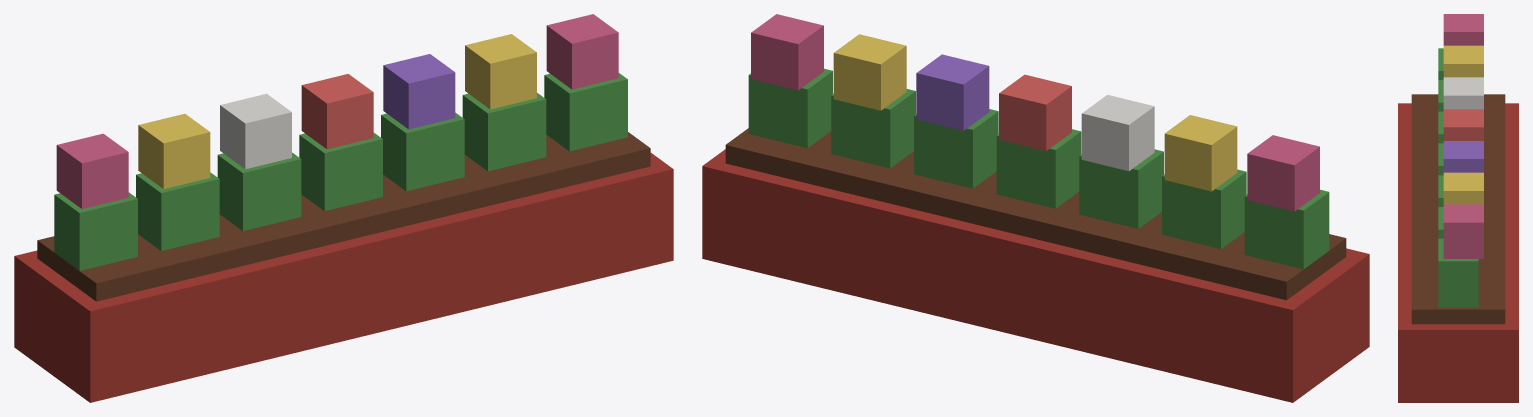
Rendered from ncb-flower-box.glb.
The picture shows the model from 3 angles, left to right: view 1: azimuth 30°, elevation 25°; view 2: azimuth 150°, elevation 25°; view 3: azimuth 270°, elevation 25°; orthographic projection. The views are drawn at different scales.
Parts seen in each view (by area): view 1: box-prop; view 2: box-prop; view 3: box-prop.
Part boxes in pixels (x1,y1,x2,y2): box-prop: (14,14,673,402); box-prop: (702,14,1369,402); box-prop: (1398,14,1518,402).
Bounding box in the file's own units: 2 × 0.7 × 0.45.
